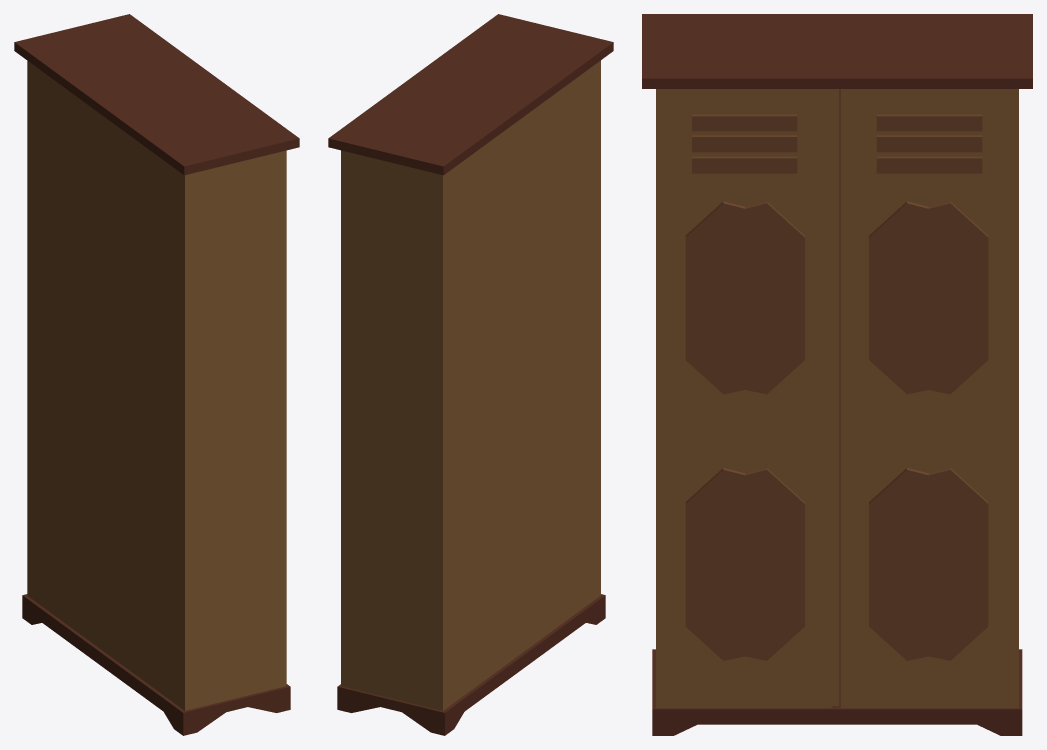
Rendered from WesternLocker.glb.
The picture shows the model from 3 angles, left to right: view 1: azimuth 30°, elevation 25°; view 2: azimuth 150°, elevation 25°; view 3: azimuth 270°, elevation 25°; orthographic projection. The views are drawn at different scales.
Parts seen in each view (by area): view 1: WesternLocker2; view 2: WesternLocker2; view 3: WesternLocker2.
Boxes of the visible parts, <box> form: WesternLocker2: <box>14,14,299,735</box>; WesternLocker2: <box>328,14,613,735</box>; WesternLocker2: <box>642,14,1032,735</box>.
Size of the model in its own units: 0.6692 by 3.18 by 1.71.
Materials: 1 (1 with a texture image).
